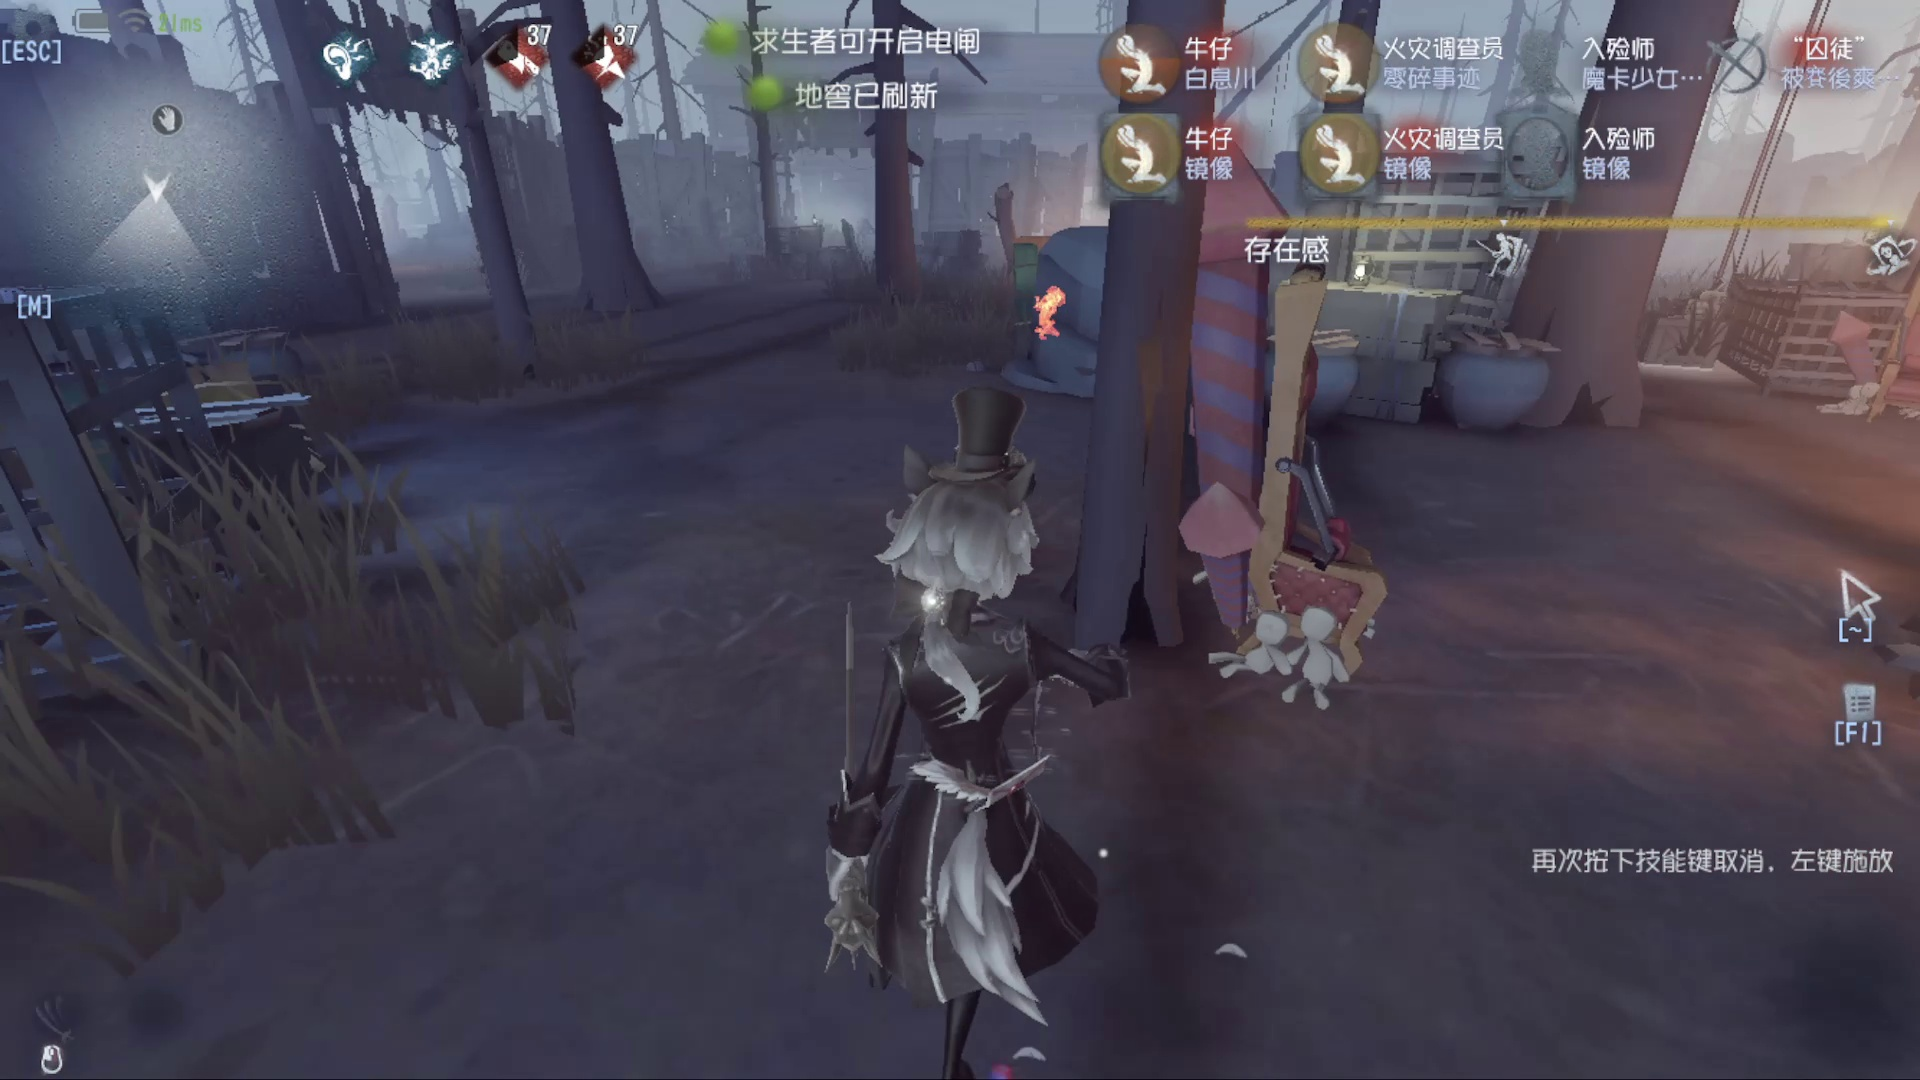求生者: (1009, 272, 1073, 348)
狂欢之椅: (1112, 127, 1393, 721)
